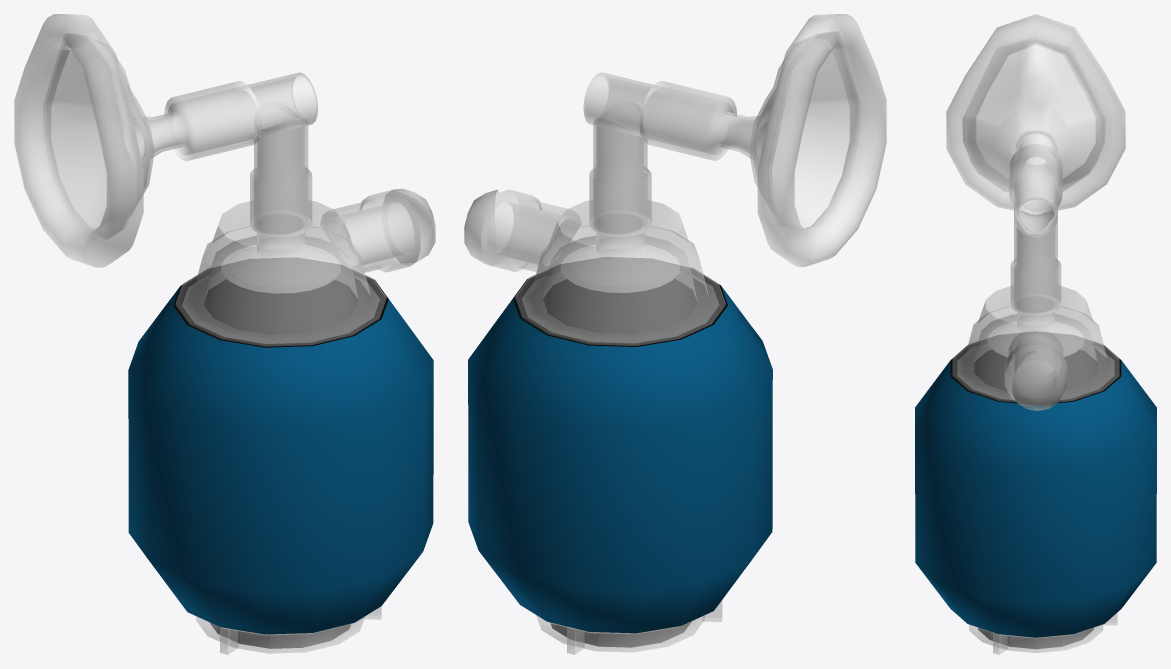
Rendered from Ventilator_Hand_Pump.fbx.
3 renders of one model, left to right at view 1: azimuth 30°, elevation 25°; view 2: azimuth 150°, elevation 25°; view 3: azimuth 270°, elevation 25°, orthographic. The views are drawn at different scales.
Parts seen in each view (by area): view 1: Bulb, Cap, MaskCushion, Mask, MaskPipe, MaskStem, ValveStem, Diaphram, Base, Valve; view 2: Bulb, Cap, MaskCushion, Mask, MaskPipe, MaskStem, ValveStem, Diaphram, Base, Valve; view 3: Bulb, Mask, MaskCushion, Cap, MaskStem, MaskPipe, ValveStem, Valve, Base, Diaphram.
Boxes of the visible parts, box(x1,y1,x2,y2) form: Bulb: box(128, 258, 433, 634); Cap: box(175, 200, 386, 346); MaskCushion: box(14, 14, 143, 267); Mask: box(43, 33, 154, 239); MaskPipe: box(122, 72, 317, 162); MaskStem: box(250, 106, 312, 236); ValveStem: box(320, 190, 420, 273); Diaphram: box(221, 244, 340, 293); Base: box(196, 616, 364, 653); Valve: box(383, 188, 435, 262); Bulb: box(468, 257, 772, 633); Cap: box(515, 200, 725, 345); MaskCushion: box(757, 14, 886, 266); Mask: box(749, 31, 859, 237); MaskPipe: box(583, 72, 778, 163); MaskStem: box(589, 106, 651, 236); ValveStem: box(481, 189, 581, 272); Diaphram: box(561, 244, 679, 292); Base: box(536, 615, 704, 652); Valve: box(464, 189, 499, 265); Bulb: box(915, 332, 1156, 637); Mask: box(962, 38, 1105, 191); MaskCushion: box(946, 14, 1125, 211); Cap: box(952, 285, 1119, 402); MaskStem: box(1010, 210, 1061, 315); MaskPipe: box(1009, 131, 1062, 236); ValveStem: box(1004, 328, 1067, 407); Valve: box(1012, 351, 1066, 410); Base: box(969, 624, 1103, 653); Diaphram: box(987, 321, 1084, 356).
Size of the model in its own units: 2.73 by 4.59 by 1.9.
